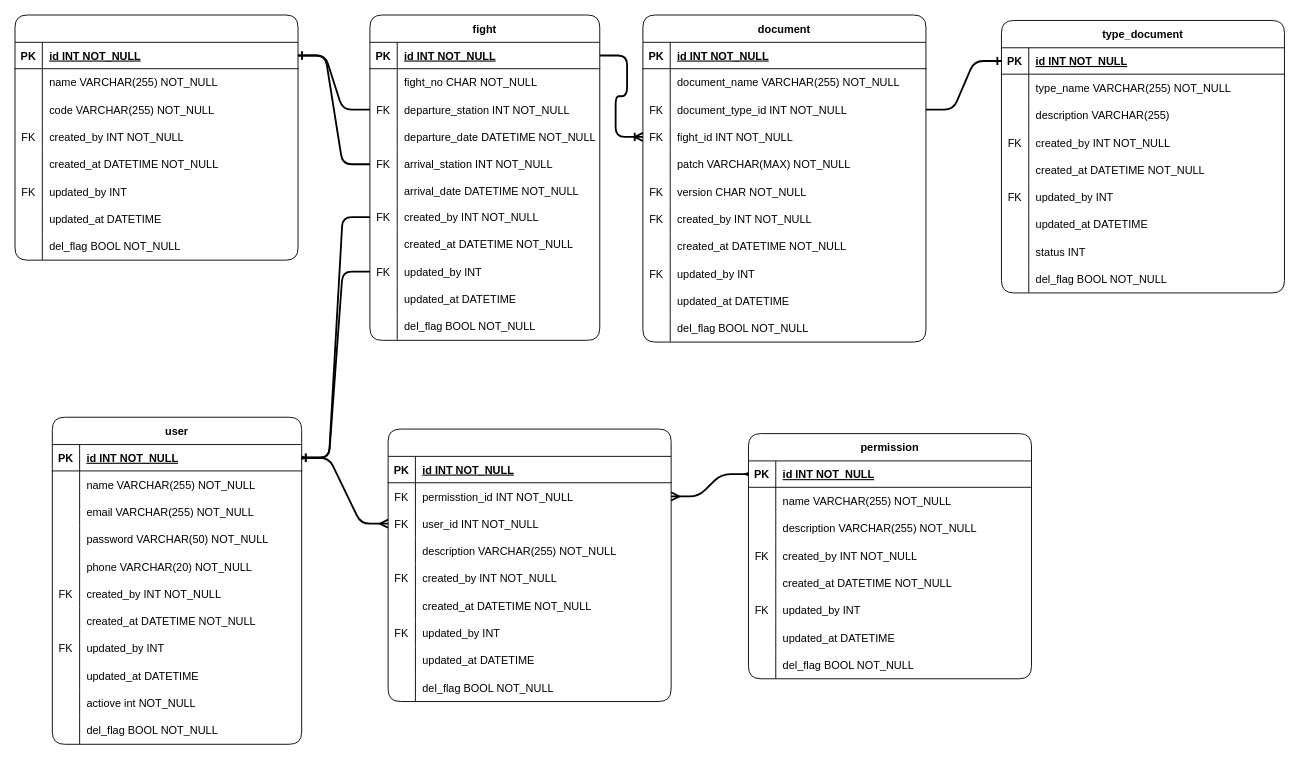
This 1299x759 diagram has some shape labels left out. Here are the shapes that lost their labels. From the top down, the box of each, then its label:
(14, 14, 298, 260): location
(387, 428, 671, 702): user_permission
